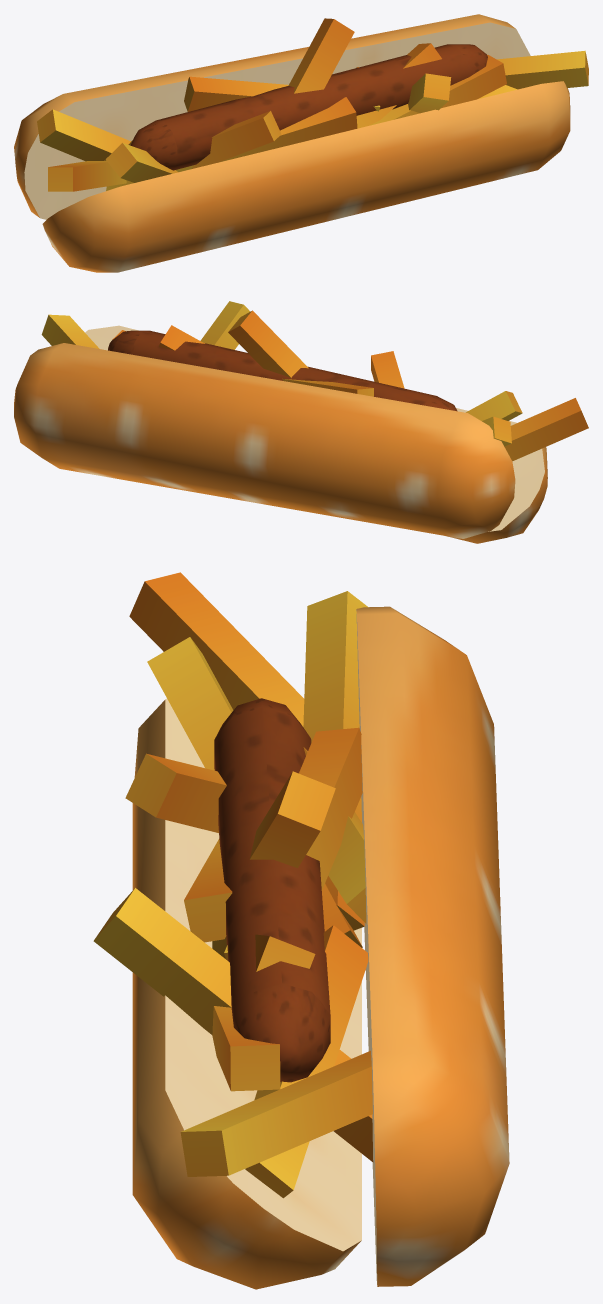
Rendered from DoubleCooked_Mitraillette.fbx.
3 renders of one model, top to bottom at view 1: azimuth 30°, elevation 25°; view 2: azimuth 150°, elevation 25°; view 3: azimuth 270°, elevation 25°, orthographic. The views are drawn at different scales.
Parts seen in each view (by area): view 1: DoubleCooked_Mitraillette; view 2: DoubleCooked_Mitraillette; view 3: DoubleCooked_Mitraillette.
Boxes of the visible parts, x1,y1,x2,y2 form: DoubleCooked_Mitraillette: (14, 14, 588, 272); DoubleCooked_Mitraillette: (14, 301, 588, 543); DoubleCooked_Mitraillette: (93, 572, 509, 1289).
Size of the model in its own units: 34.02 by 10.85 by 11.54.
1 material, 1 textured.
